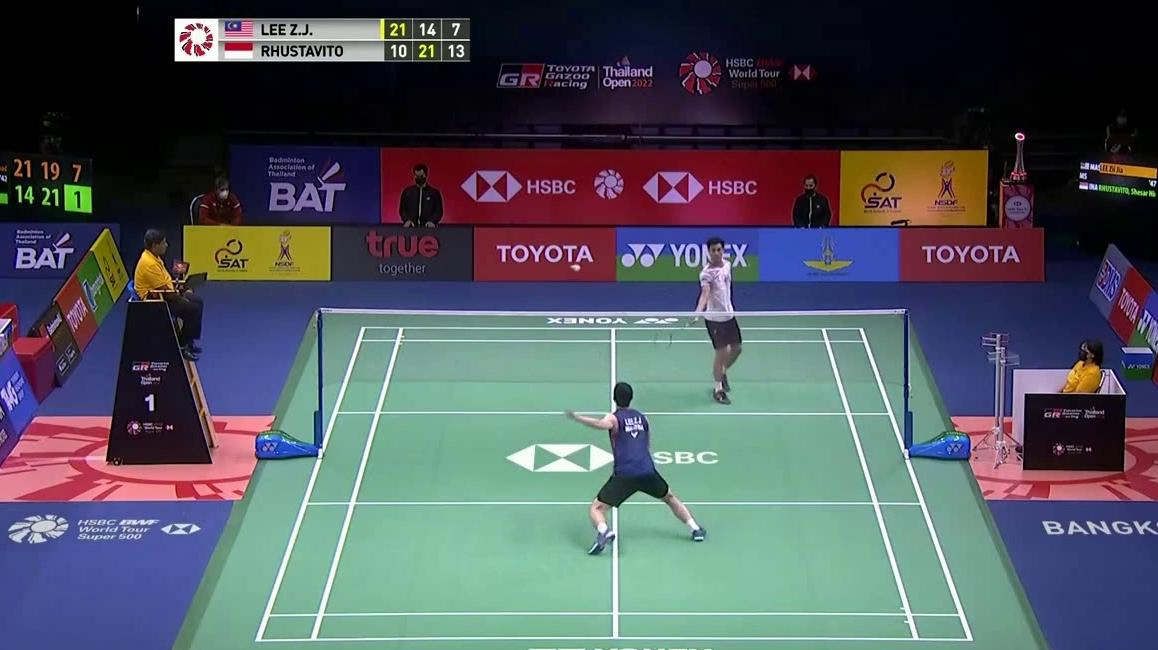racket: (653, 317, 699, 352)
shuttle: (569, 263, 581, 272)
